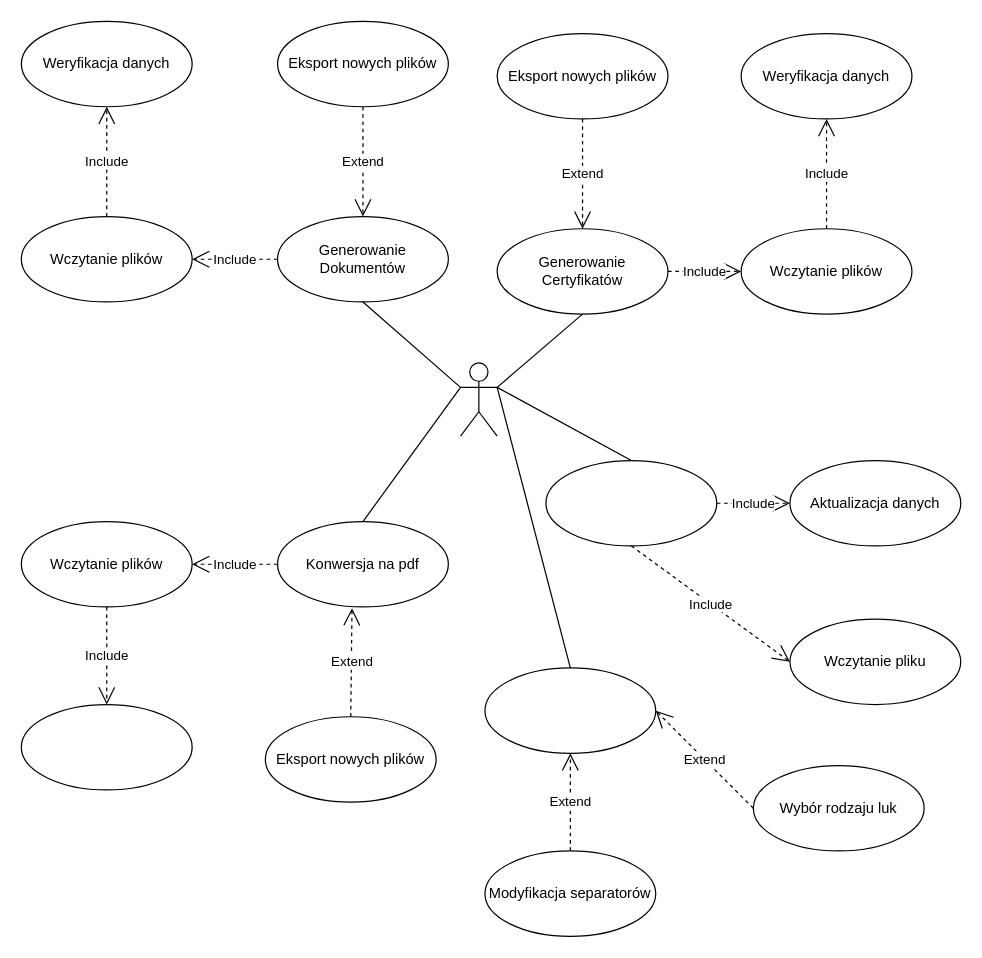
Some shapes in this 982 by 958 pixel diagram are drawn without their labels. The shapes that lost their labels are listed below. From the top down, each one's centre as x and y in pixels, then its label:
the point at 478,399: Actor
the point at 631,502: Edycja tekstowa
the point at 570,710: Zarządzanie ustawieniami aplikacji
the point at 106,746: Weryfikacja typu
